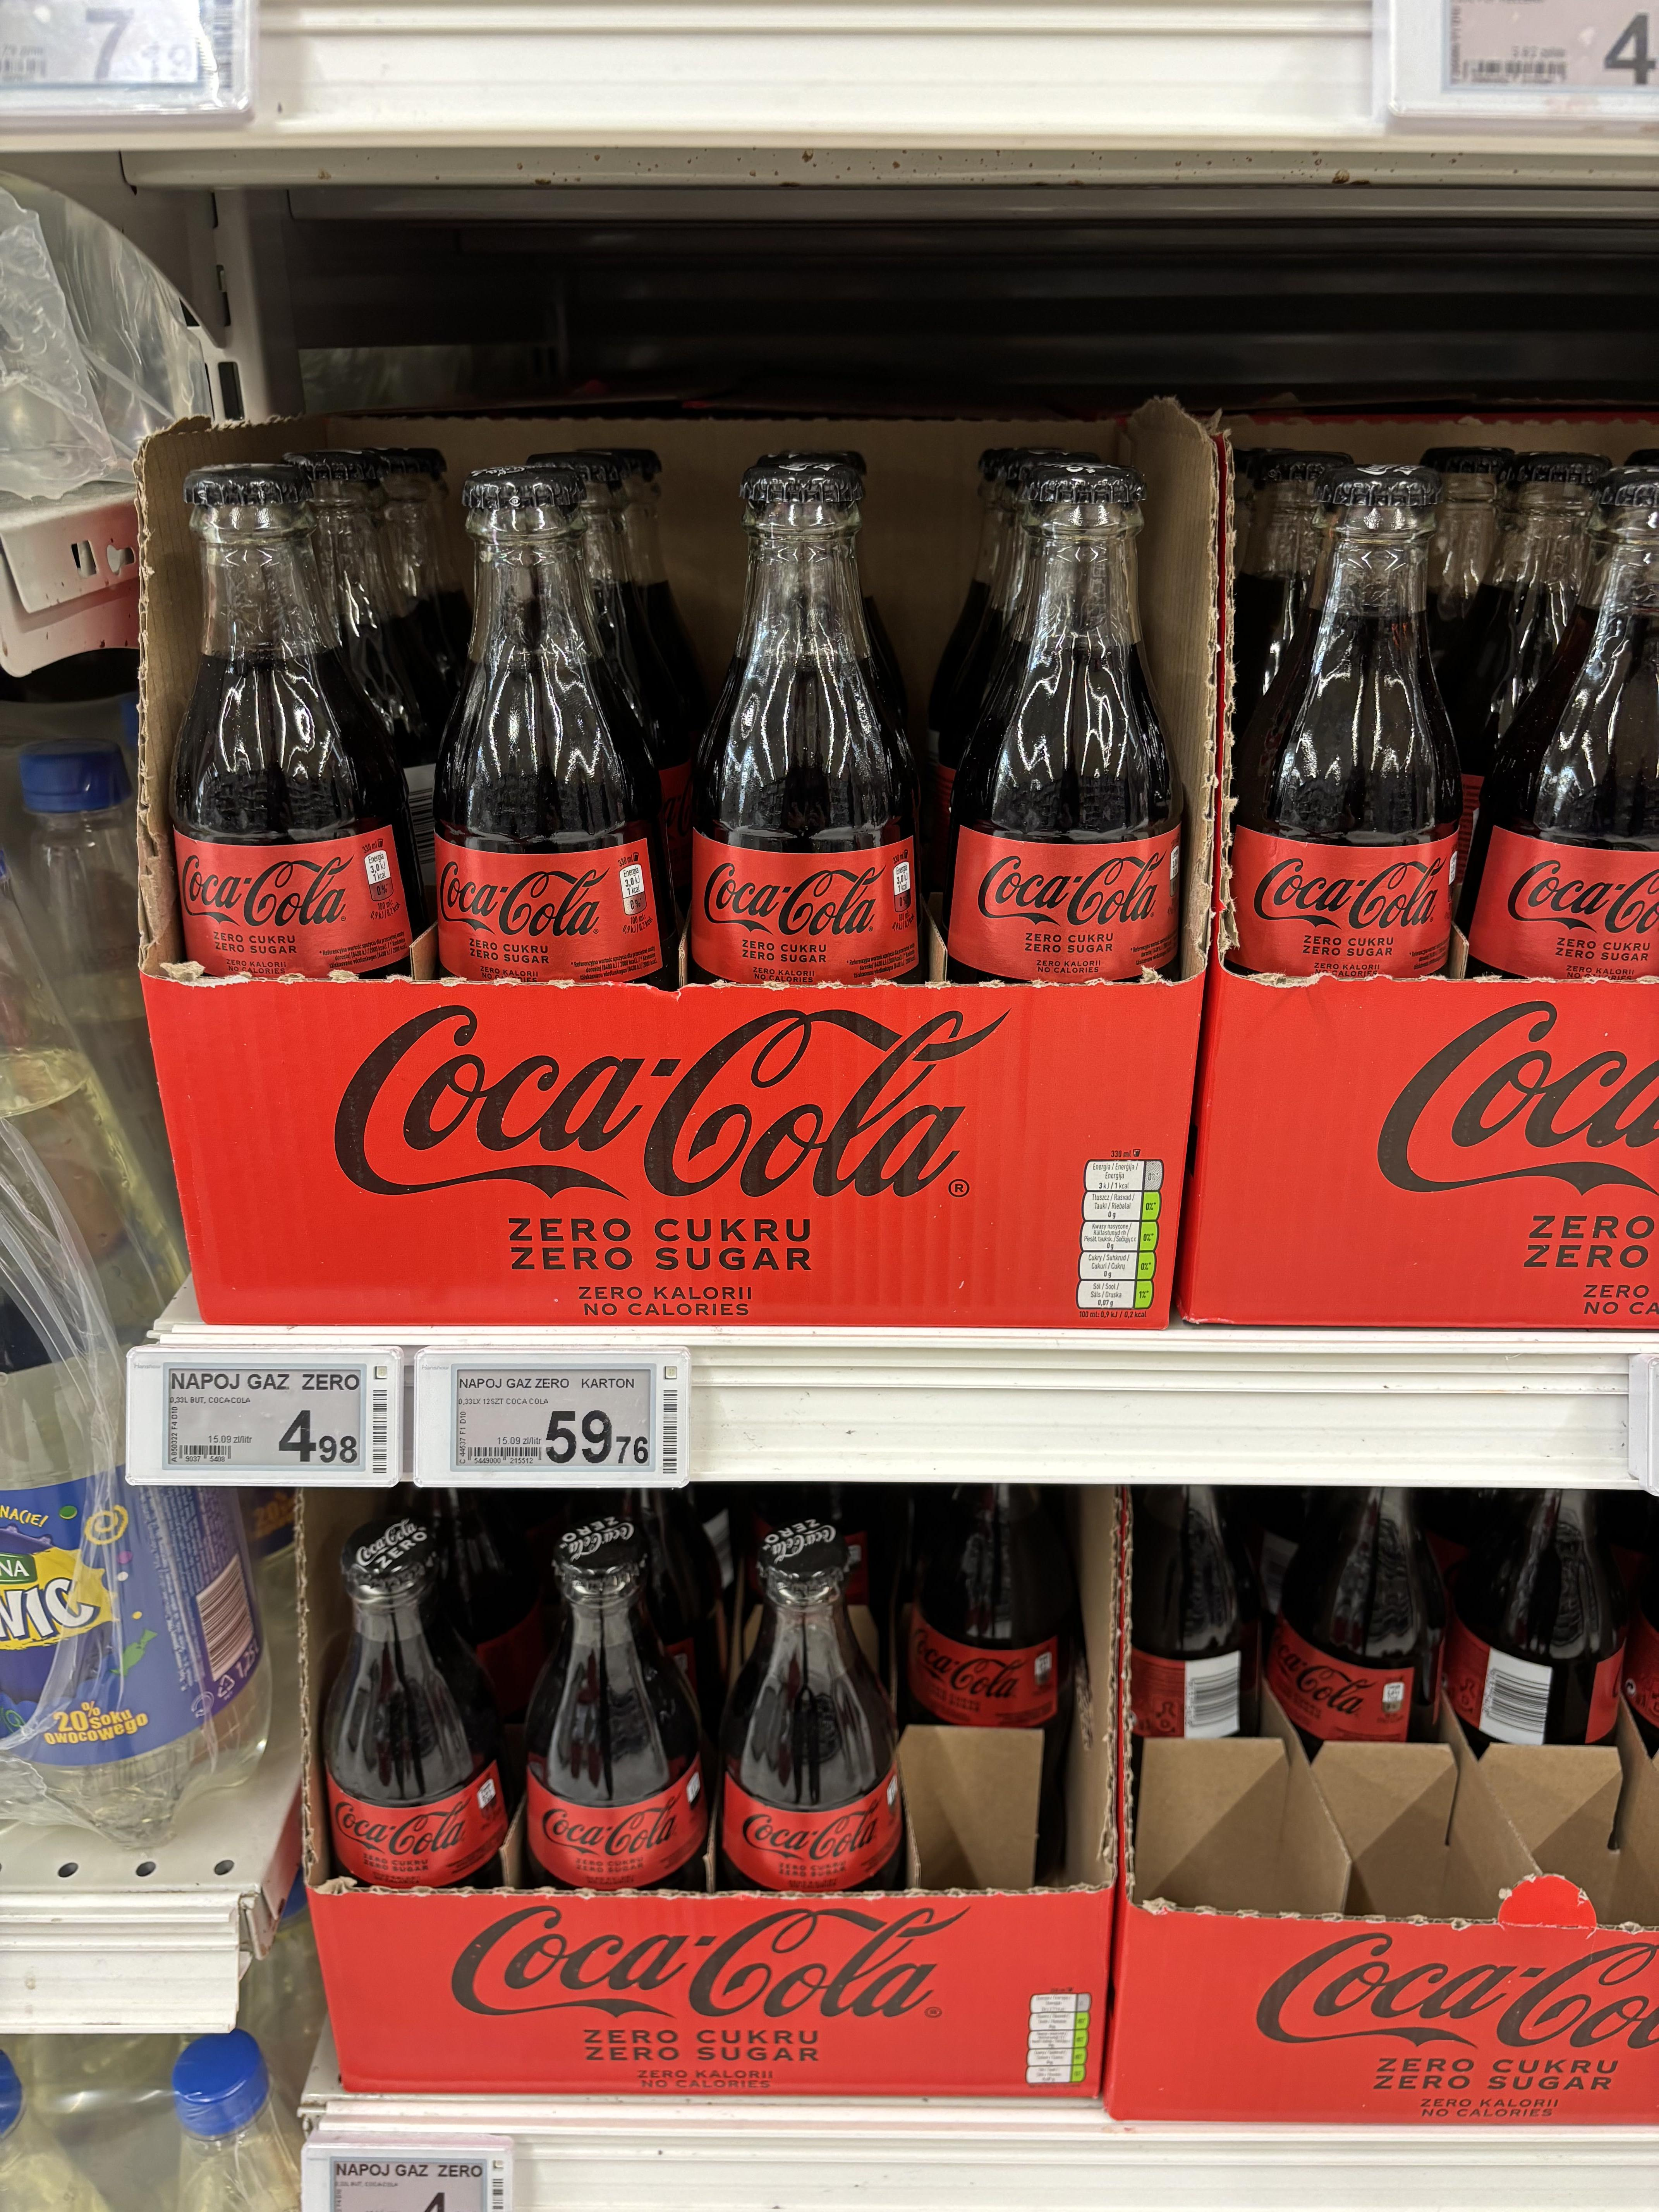Coca Cola: (423, 462, 704, 1012), (938, 472, 1208, 988), (143, 441, 390, 960), (695, 463, 932, 981), (1234, 456, 1448, 972), (1481, 475, 1659, 1014), (709, 1533, 917, 1907), (315, 1531, 509, 1905), (518, 1538, 701, 1888)
